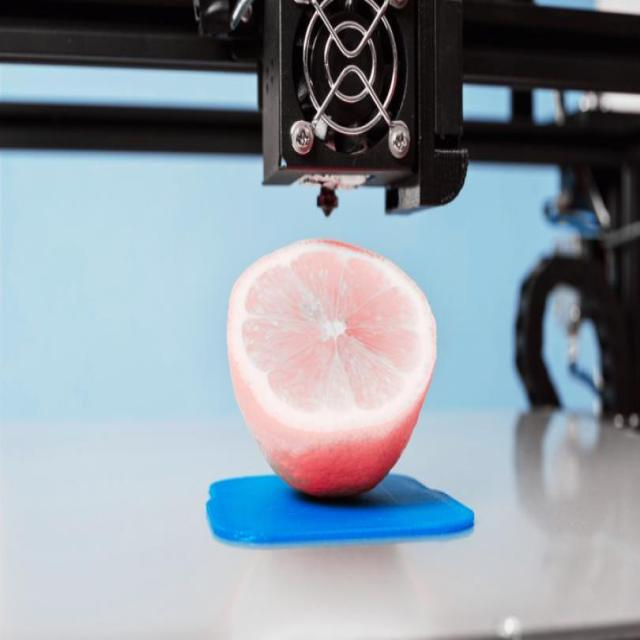Without deffect: (217, 232, 464, 544)
